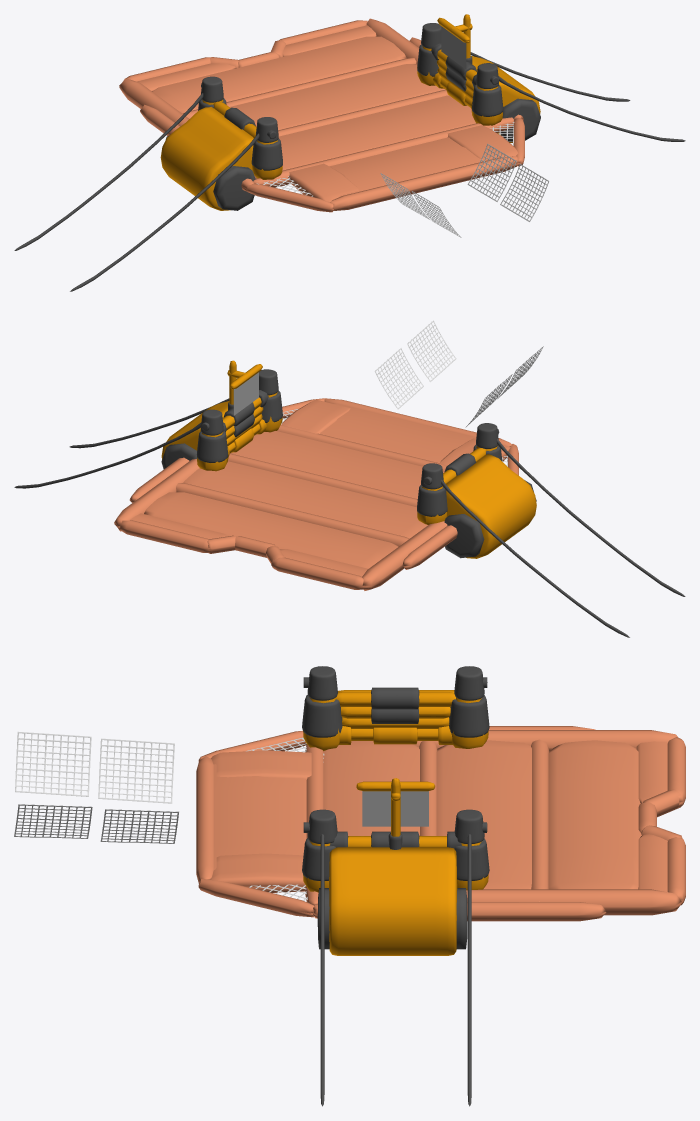
Rendered from FBX_Ring.fbx.
3 views of the same model, one above another, from view 1: azimuth 30°, elevation 25°; view 2: azimuth 150°, elevation 25°; view 3: azimuth 270°, elevation 25° (orthographic). The views are drawn at different scales.
Parts seen in each view (by area): view 1: pCube356, pCube316, pCube317, pCube292, pCube315, pCube297, pCube321, pCube320, pCube319, pCube339, pCube323, pCube322 (+27 smaller); view 2: pCube356, pCube317, pCube316, pCube292, pCube315, pCube323, pCube322, pCube351, pCube300, pCube352, pCube319, pCube350 (+21 smaller); view 3: pCube288, pCube356, pCube317, pCube315, pCube316, pCube350, pCube319, pCube301, pCube320, pCube323, red13, red12 (+31 smaller).
Part boxes in pixels (<box>): pCube356: <box>152,36,406,113</box>; pCube316: <box>254,95,475,178</box>; pCube317: <box>229,64,445,130</box>; pCube292: <box>160,107,254,210</box>; pCube315: <box>329,137,500,196</box>; pCube297: <box>330,156,519,210</box>; pCube321: <box>253,117,514,187</box>; pCube320: <box>288,163,358,202</box>; pCube319: <box>447,125,517,160</box>; pCube339: <box>213,166,255,210</box>; pCube323: <box>183,58,416,118</box>; pCube322: <box>278,89,448,136</box>; pCube356: <box>144,492,398,568</box>; pCube317: <box>183,461,427,538</box>; pCube316: <box>230,431,444,498</box>; pCube292: <box>446,454,536,558</box>; pCube315: <box>320,404,476,462</box>; pCube323: <box>176,483,409,546</box>; pCube322: <box>228,453,417,506</box>; pCube351: <box>362,521,447,590</box>; pCube300: <box>271,557,364,589</box>; pCube352: <box>120,520,210,552</box>; pCube319: <box>281,399,350,433</box>; pCube350: <box>114,459,199,531</box>; pCube288: <box>329,847,457,955</box>; pCube356: <box>548,740,641,889</box>; pCube317: <box>436,740,531,889</box>; pCube315: <box>213,764,306,869</box>; pCube316: <box>323,741,419,835</box>; pCube350: <box>466,889,681,915</box>; pCube319: <box>210,853,305,892</box>; pCube301: <box>312,902,606,921</box>; pCube320: <box>210,750,311,779</box>; pCube323: <box>531,739,549,901</box>; red13: <box>98,738,174,803</box>; red12: <box>15,731,91,796</box>.
Bounding box in the file's own units: 32.88 × 7.83 × 23.26.
